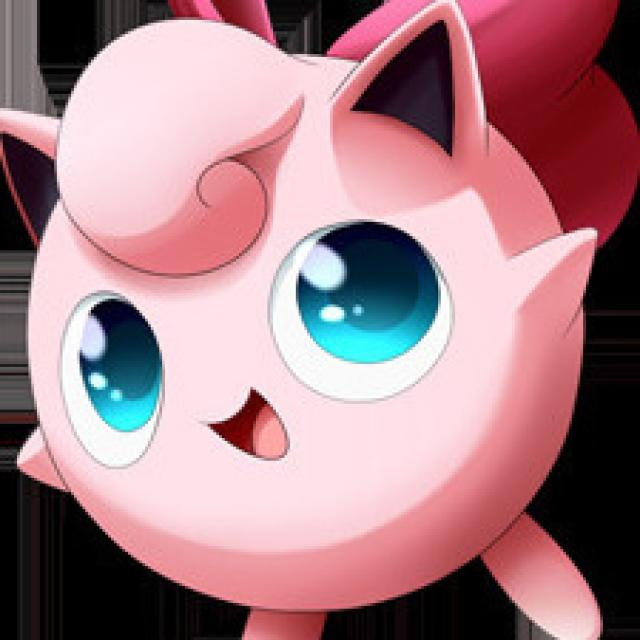Jigglypuff: (28, 0, 582, 619)
